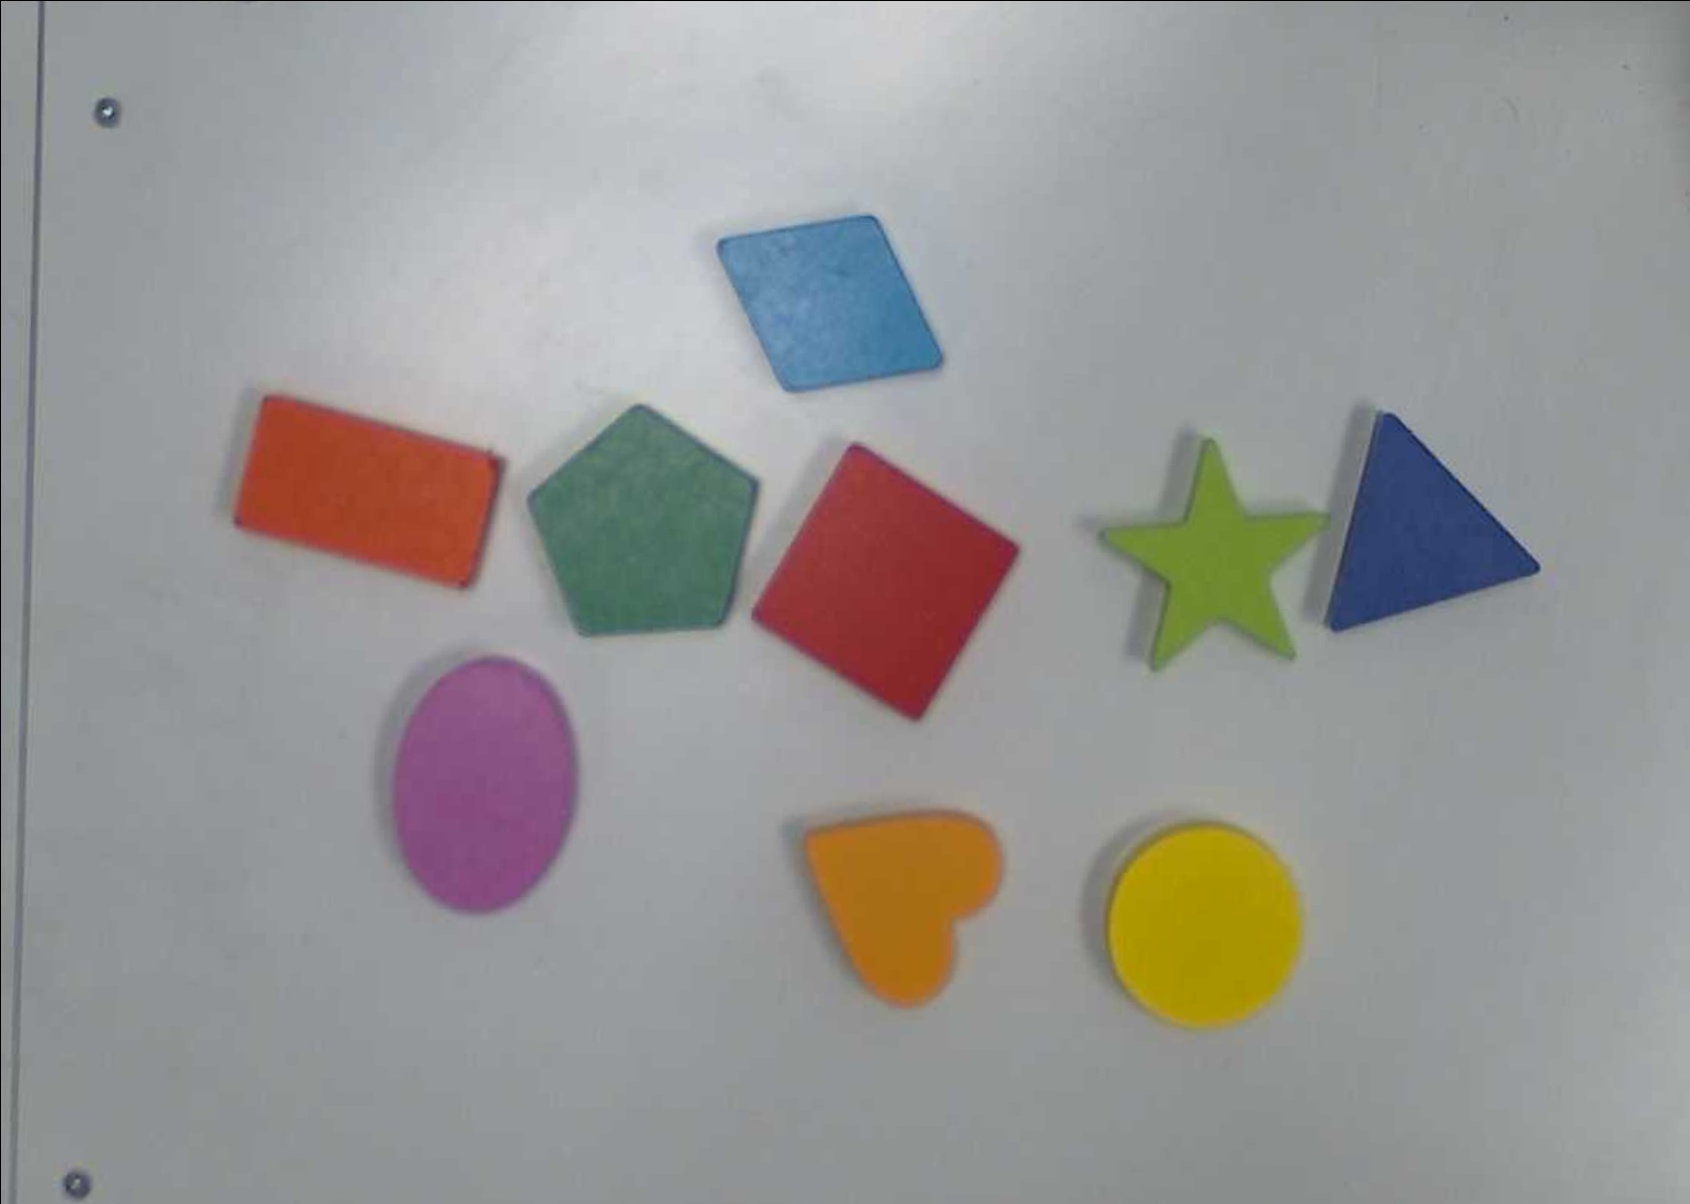Circle: (1104, 820, 1311, 1036)
Ellipse: (388, 652, 576, 916)
Heart: (800, 808, 1009, 1007)
Parallelogram: (710, 211, 946, 395)
Pentagon: (524, 400, 761, 644)
Rectangle: (222, 391, 508, 594)
Square: (748, 439, 1023, 724)
Star: (1096, 435, 1336, 679)
Triangle: (1320, 409, 1544, 637)
